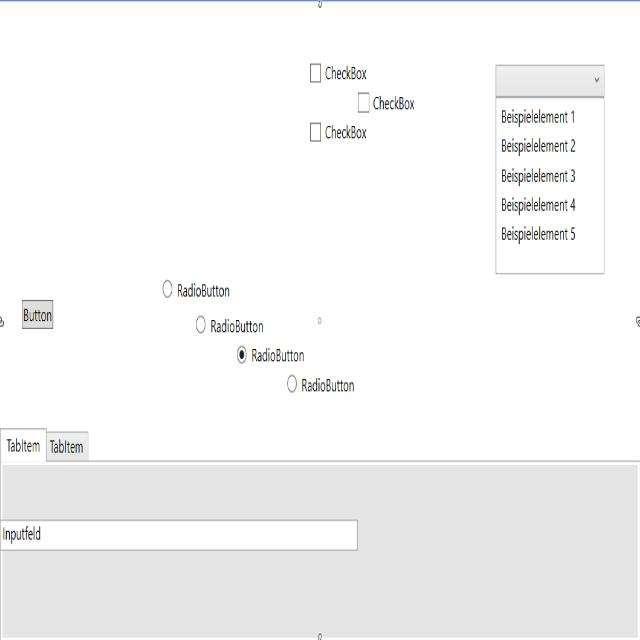button: (19, 294, 56, 332)
checkbox: (355, 87, 370, 116), (308, 117, 324, 144), (309, 60, 322, 85)
dropdownMenu: (493, 60, 606, 280)
input: (0, 511, 362, 556)
label: (300, 374, 356, 398), (176, 279, 232, 302), (210, 314, 266, 336), (251, 344, 309, 364), (323, 61, 369, 85), (326, 122, 370, 142), (372, 93, 417, 112)
menuItem: (499, 101, 577, 129), (498, 132, 578, 156), (499, 165, 578, 188), (500, 192, 578, 215), (500, 222, 578, 244)
radio: (194, 310, 207, 336), (235, 341, 248, 366), (161, 274, 173, 300), (286, 370, 298, 396)
tabControl: (0, 421, 92, 469)
